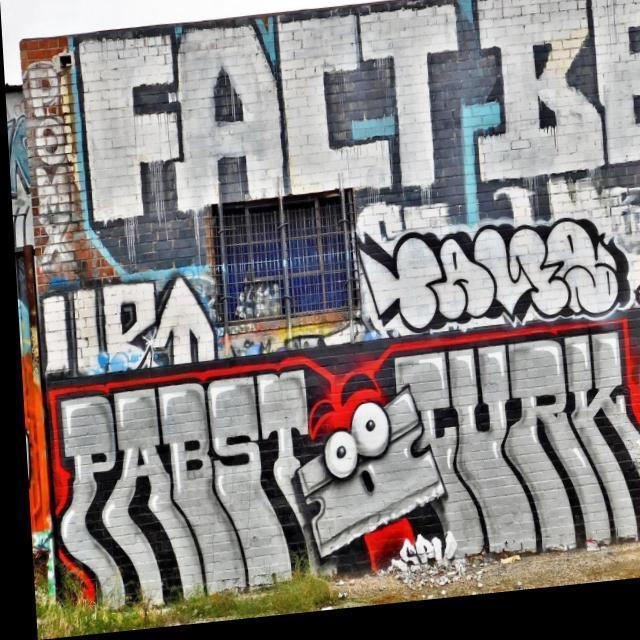nonspitting: (50, 322, 640, 605), (74, 0, 640, 219), (349, 218, 621, 330), (40, 276, 211, 370), (24, 65, 76, 268)
